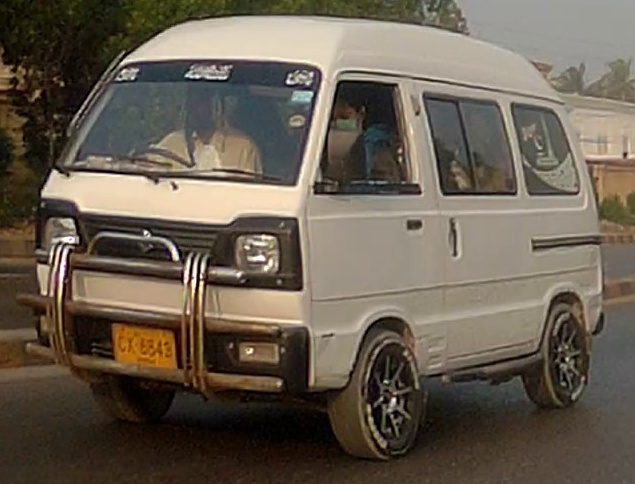van: (16, 15, 608, 460)
